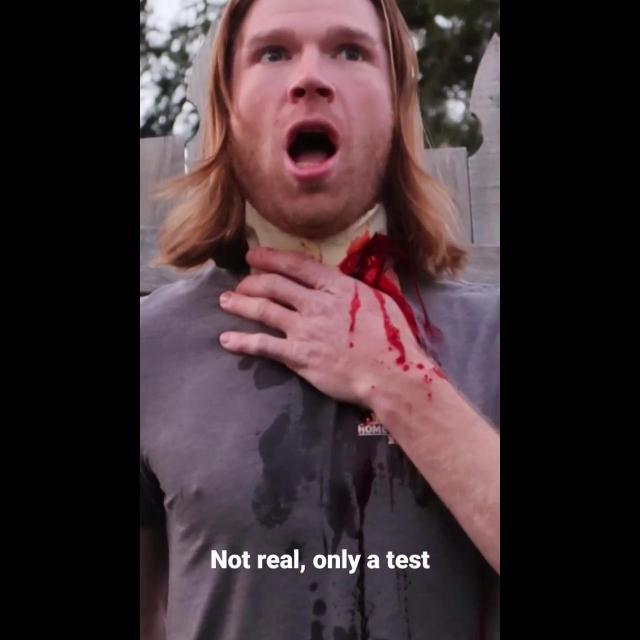blood: (339, 234, 424, 346), (396, 261, 454, 352), (370, 288, 412, 372), (411, 338, 446, 380), (348, 281, 361, 348), (416, 364, 426, 371)
